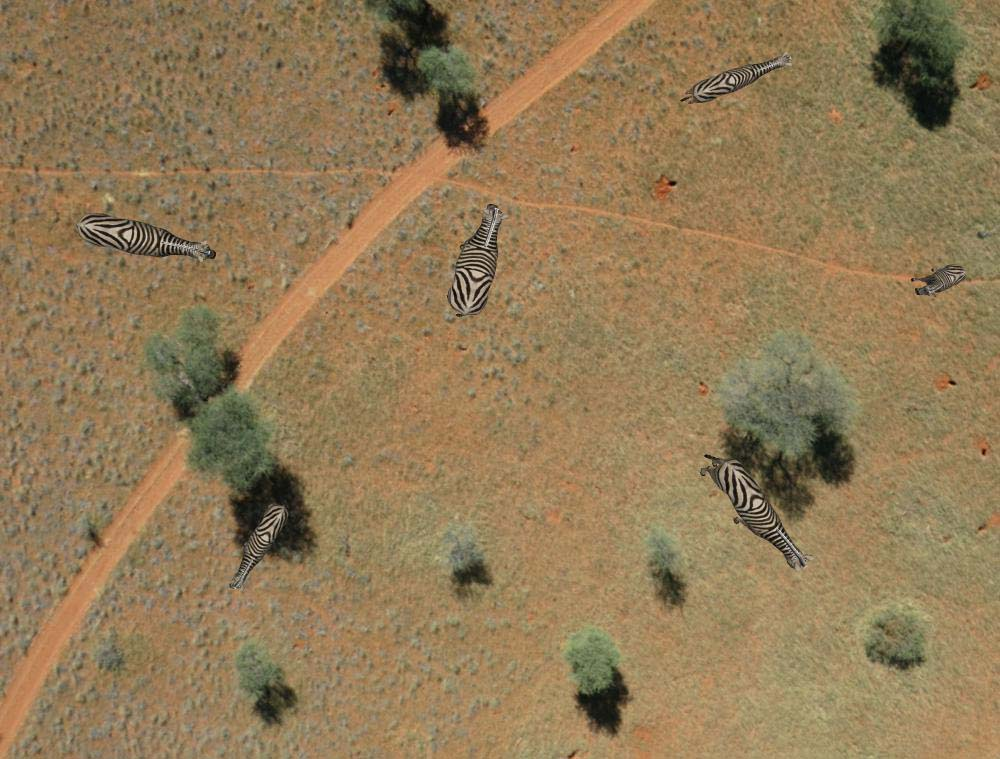zebra: (696, 450, 806, 580), (75, 210, 225, 273), (448, 200, 507, 323), (686, 50, 794, 107), (229, 497, 286, 594), (909, 256, 966, 302)
